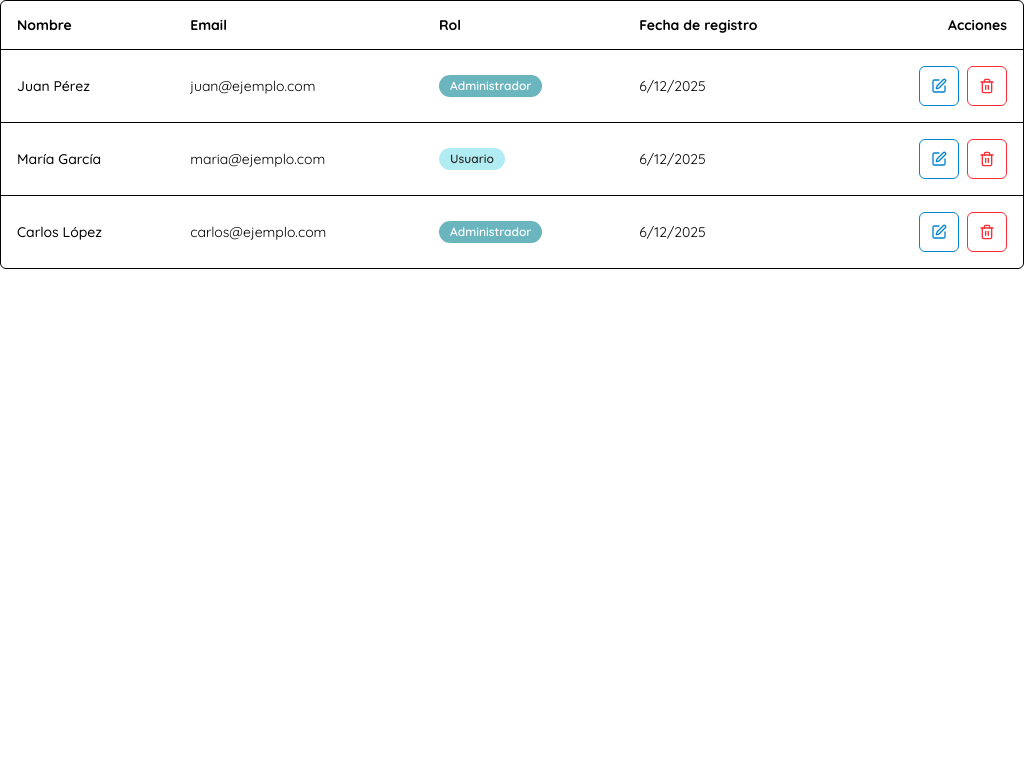
it: UsuariosList › Funcionalidad de eliminación › debe mostrar dialog de confirmación al hacer clic en eliminar
Click the button named "eliminar" in the row of "Juan Pérez": (987, 86) [967, 66, 1007, 106]
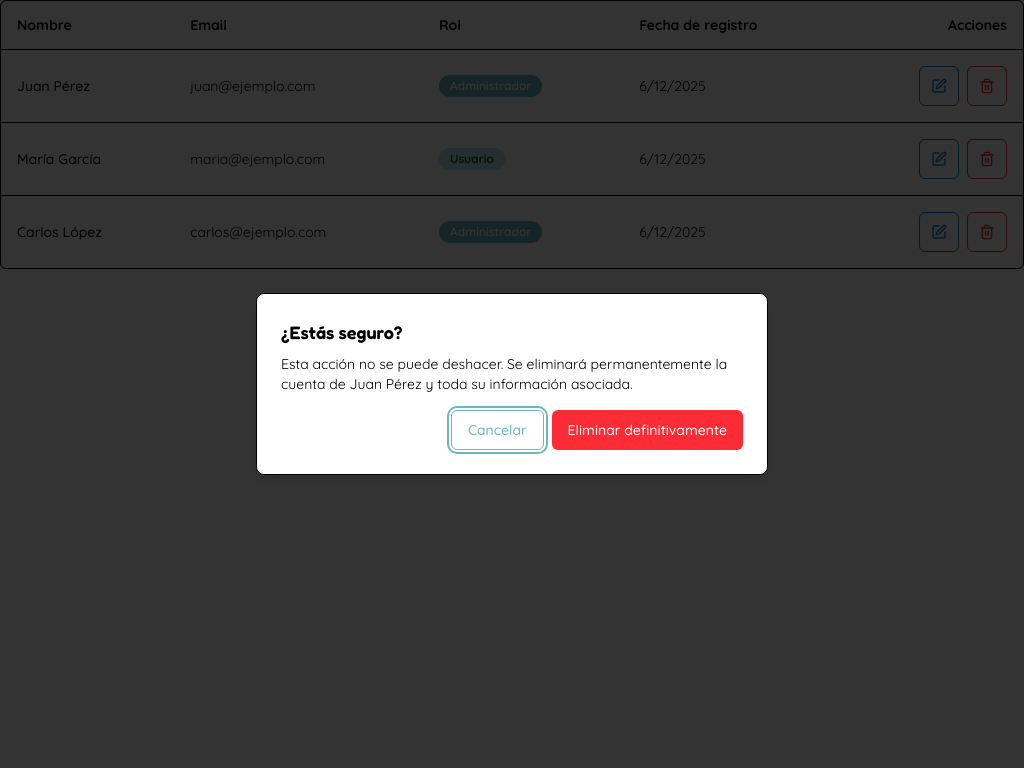
Result: the heading "¿Estás seguro?" is shown at [281, 321, 402, 343]
Result: the button "Cancelar" is shown at [451, 410, 544, 450]
Result: the button "Eliminar definitivamente" is shown at [552, 410, 743, 450]
